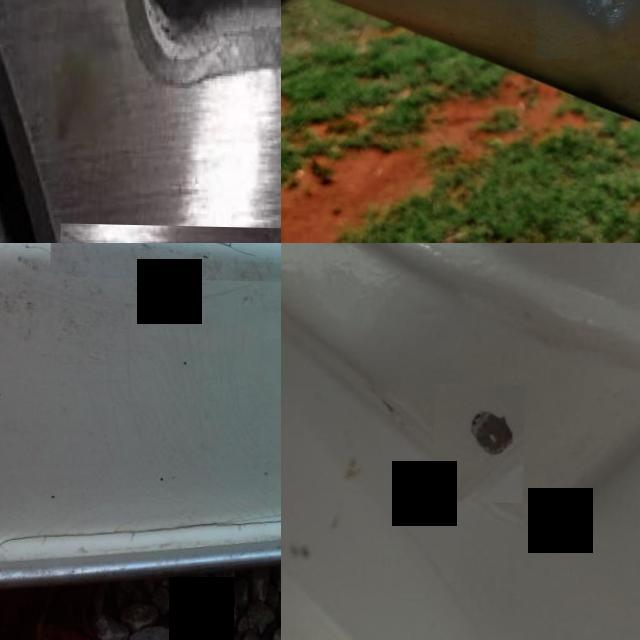Crack: (0, 508, 281, 551), (434, 382, 528, 501)
Dent: (537, 0, 640, 59)
